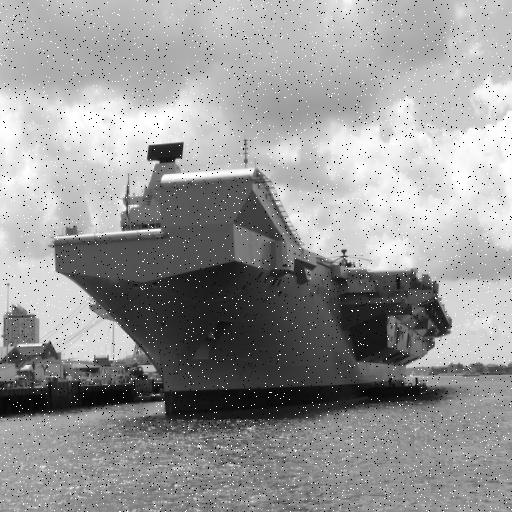Portanaves: (41, 119, 456, 426)
